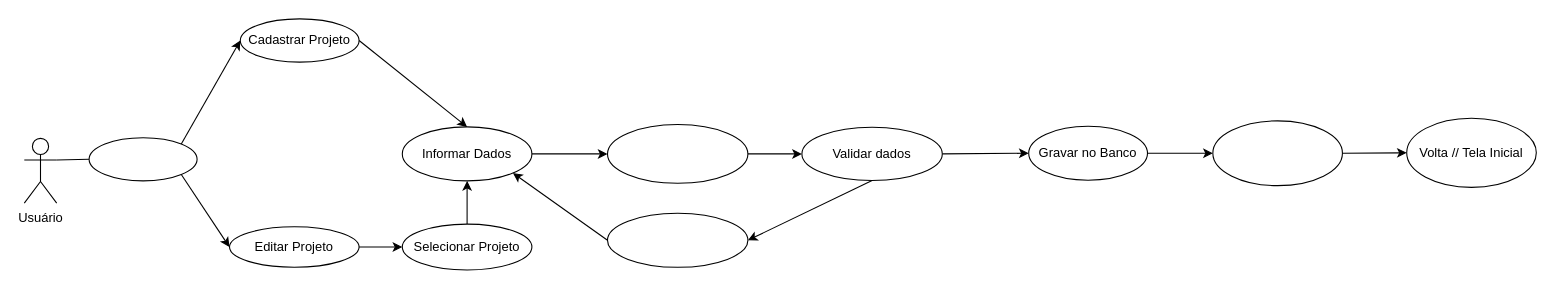
Image size: 1555x289. Some labels were removed from this diagram. The box of each missing label's shape, as (x1, y1, x2, y2) in pixels:
Dados inválidos: (606, 212, 748, 267)
Enviar Projeto: (606, 123, 748, 183)
Login: (88, 137, 197, 181)
Mensagem de confirmação: (1212, 120, 1342, 186)
